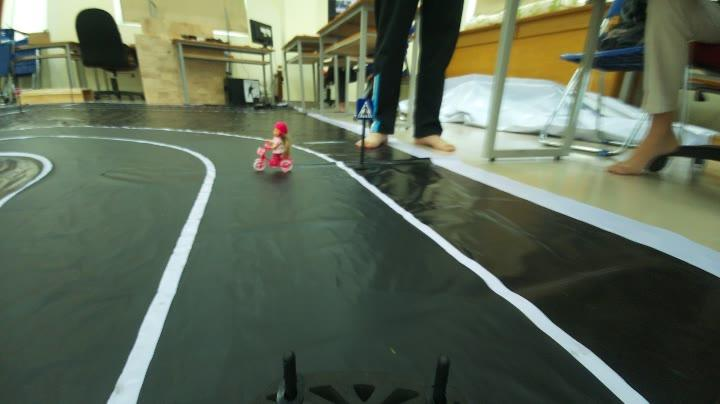crosswalk: (352, 97, 376, 123)
pedestrian: (248, 121, 300, 171)
